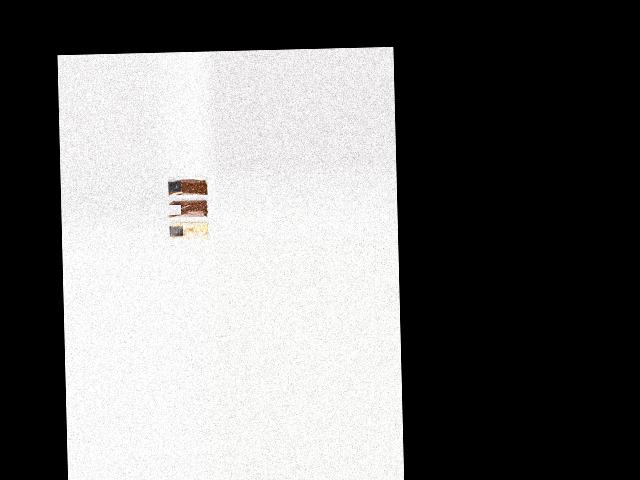chocolate: (168, 172, 211, 197)
